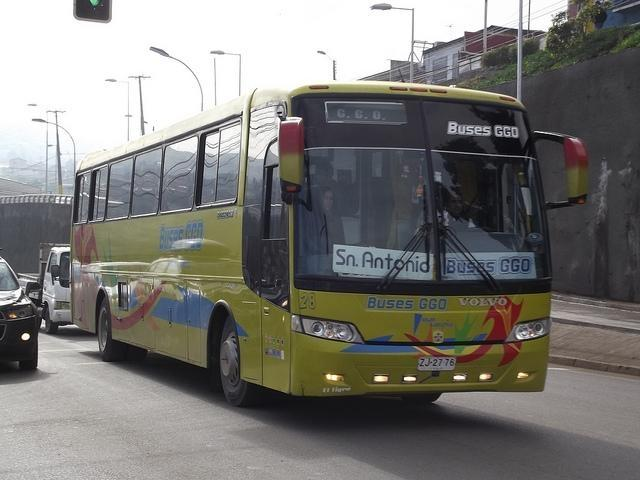bus: (70, 81, 591, 410)
car: (1, 259, 40, 372)
truck: (17, 244, 74, 336)
